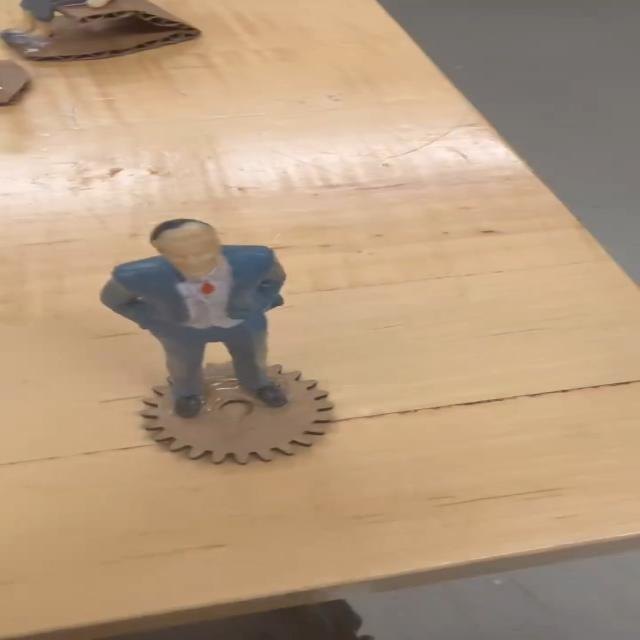Authorized: (74, 205, 338, 420)
